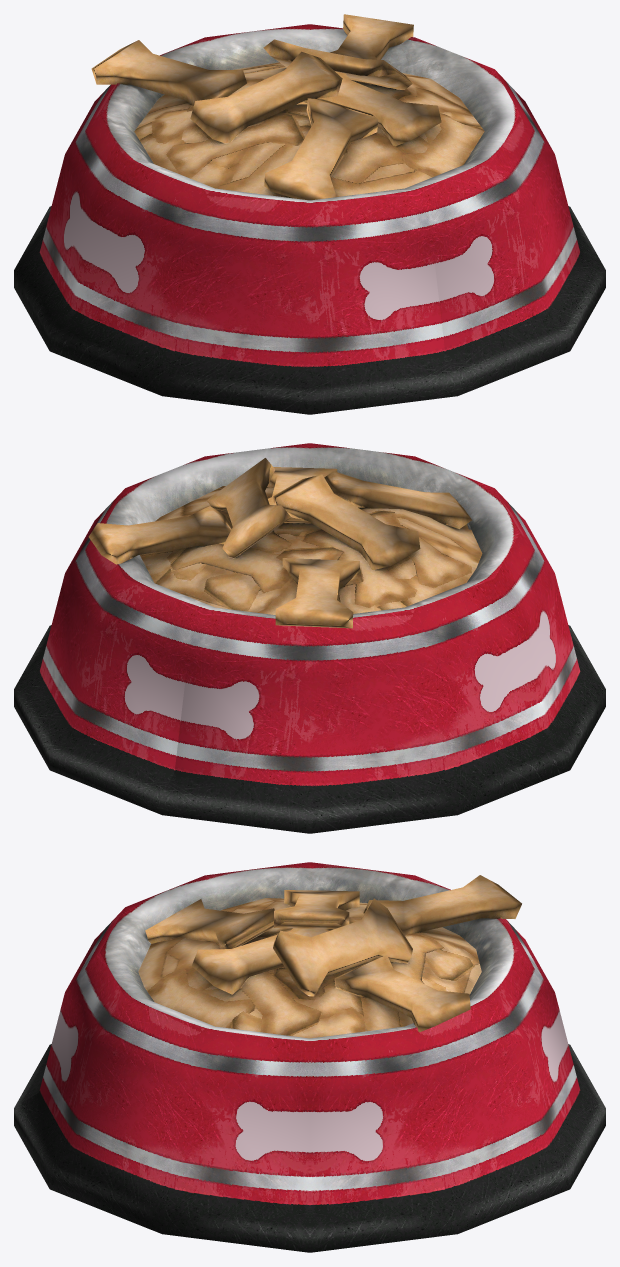
Rendered from Pickup_Goul01.glb.
3 renders of one model, top to bottom at view 1: azimuth 30°, elevation 25°; view 2: azimuth 150°, elevation 25°; view 3: azimuth 270°, elevation 25°, orthographic.
Visible parts, largest first — view 1: pk_goul_01; view 2: pk_goul_01; view 3: pk_goul_01.
Part boxes in pixels (x1,y1,x2,y2): pk_goul_01: (14,14,605,414); pk_goul_01: (14,443,605,833); pk_goul_01: (14,862,605,1252).
Size of the model in its own units: 0.4256 by 0.1764 by 0.4191.
1 material, 1 textured.
